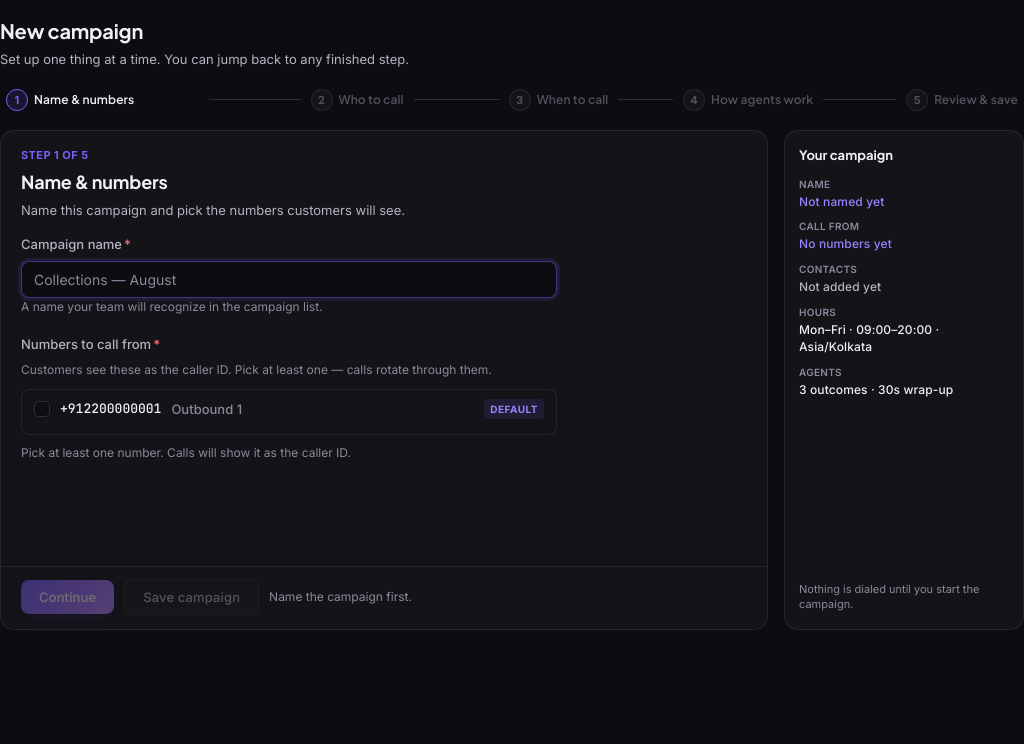
Test: the disposition catalog editor › warns when Ends is set beside Stops, which the API never reaches
Step 1. Type "Collections" into the field labelled "Campaign name*" → {"x": 289, "y": 279}, box x1=21 y1=261 x2=557 y2=298
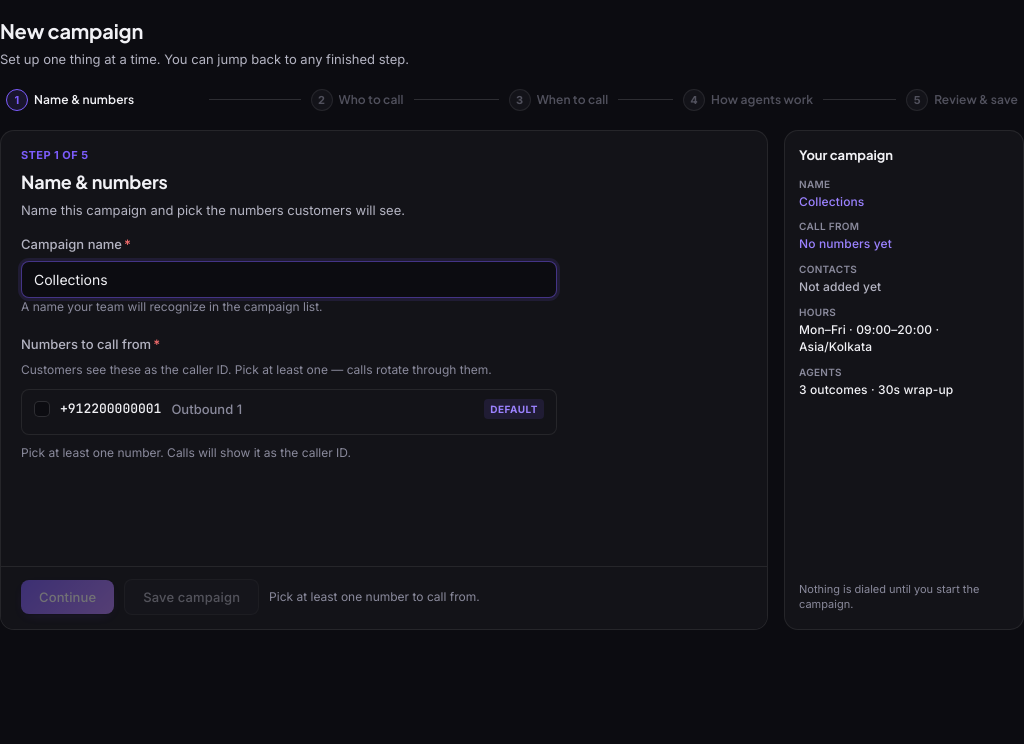
Step 2. Click the checkbox labelled "+912200000001 Outbound 1 Default" → {"x": 42, "y": 409}, box x1=34 y1=401 x2=50 y2=417
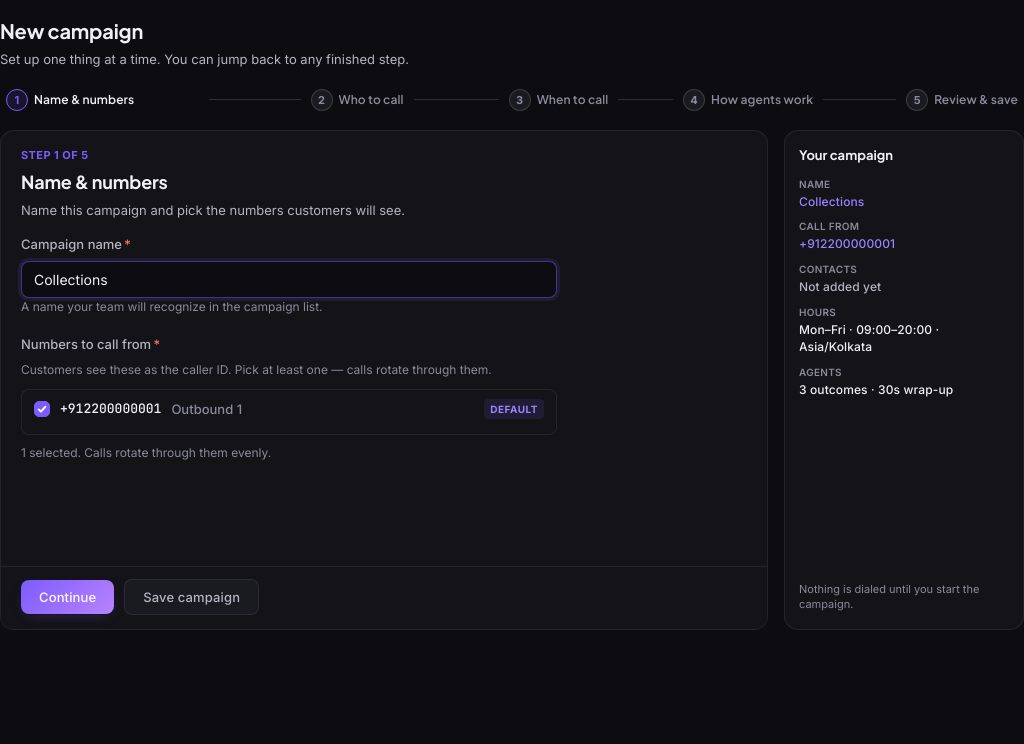
Step 3. Click the button "4 How agents work" → {"x": 748, "y": 100}, box x1=677 y1=84 x2=819 y2=116
(page scrolled)
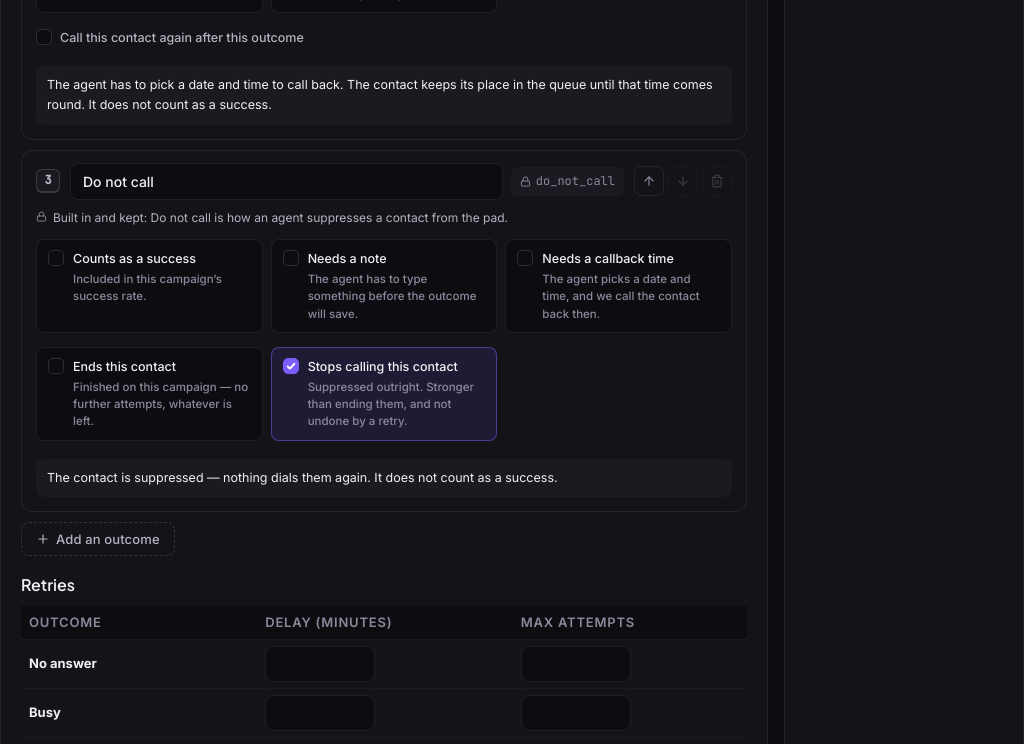
Step 4. Click the checkbox labelled "Ends this contact" → {"x": 56, "y": 366}, box x1=48 y1=358 x2=64 y2=374
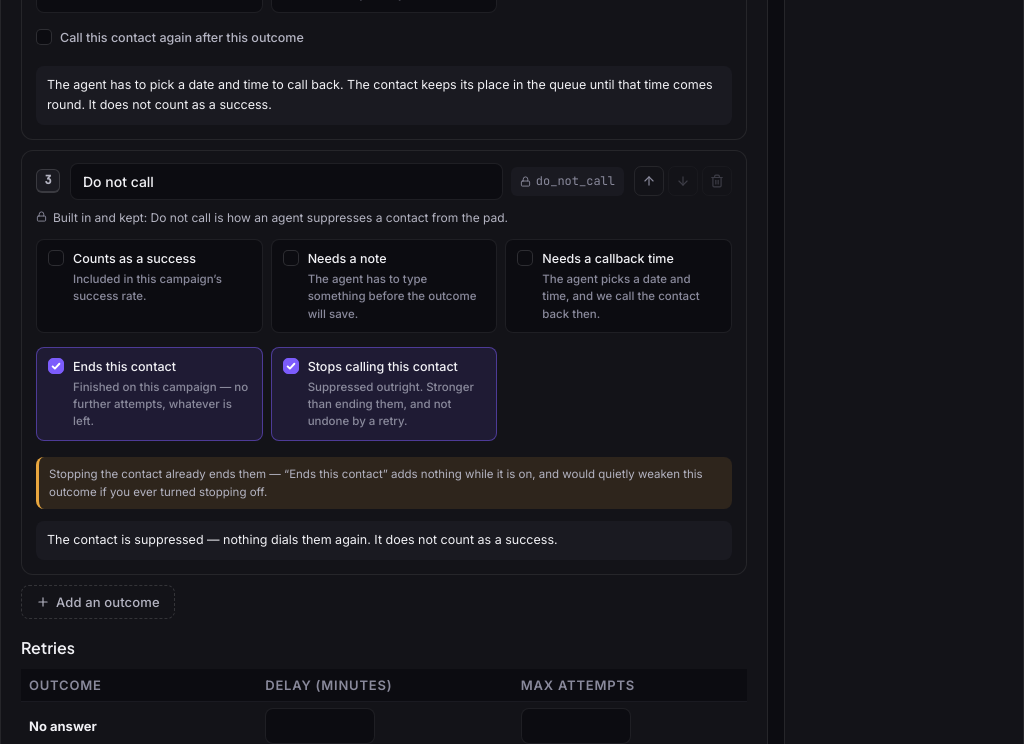
Expected: the text with test id "precedence-2" shows "adds nothing", x1=49 y1=466 x2=703 y2=499
